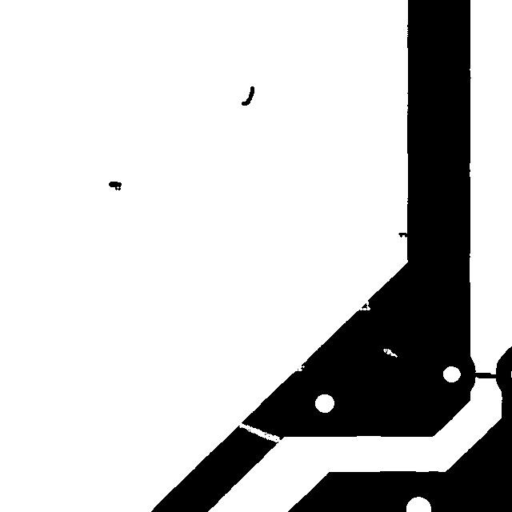copper: (234, 78, 262, 113), (101, 174, 129, 198)
mousebite: (351, 293, 378, 318), (287, 358, 312, 378)
open: (230, 415, 290, 450)
pin-hole: (375, 341, 405, 365)
short: (465, 365, 507, 386)
spur: (390, 225, 414, 245)
